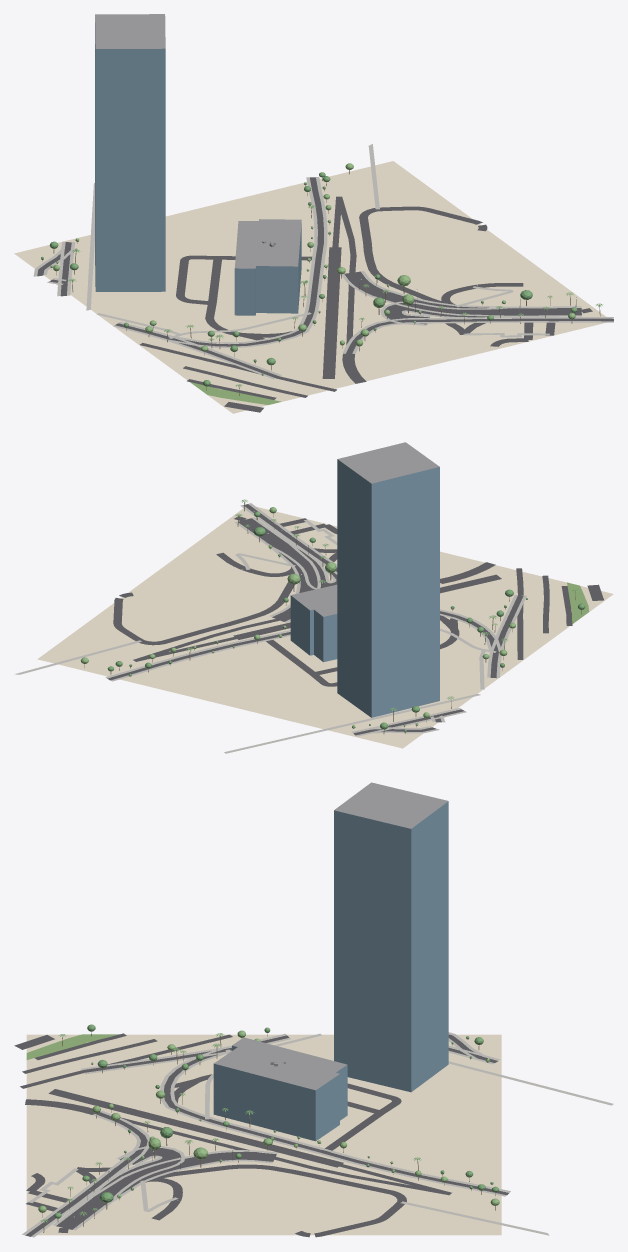
File: tile_-2_-3.glb
3 renders of one model, top to bottom at view 1: azimuth 30°, elevation 25°; view 2: azimuth 150°, elevation 25°; view 3: azimuth 270°, elevation 25°, orthographic. The views are drawn at different scales.
Visible parts, largest first — view 1: nature_ground, buildings_glass_blue, roads_asphalt, roads_sidewalk, buildings_roof, nature_foliage_b, nature_foliage_a, nature_grass; view 2: nature_ground, buildings_glass_blue, roads_asphalt, roads_sidewalk, buildings_roof, nature_foliage_a, nature_foliage_b, nature_grass; view 3: nature_ground, buildings_glass_blue, roads_asphalt, roads_sidewalk, buildings_roof, nature_foliage_b, nature_foliage_a, nature_grass.
Part boxes in pixels (x1,y1,x2,y2): nature_ground: (14,161,605,413); buildings_glass_blue: (95,23,301,315); roads_asphalt: (37,177,613,412); roads_sidewalk: (33,144,613,379); buildings_roof: (95,14,301,268); nature_foliage_b: (50,163,575,351); nature_foliage_a: (41,172,577,386); nature_grass: (190,382,281,404); nature_ground: (37,505,613,748); buildings_glass_blue: (290,459,439,717); roads_asphalt: (107,504,603,735); roads_sidewalk: (14,503,526,753); buildings_roof: (291,442,439,616); nature_foliage_a: (107,511,585,732); nature_foliage_b: (80,507,515,728); nature_grass: (567,582,589,623); nature_ground: (26,1034,501,1235); buildings_glass_blue: (213,801,448,1141); roads_asphalt: (14,1033,508,1237); roads_sidewalk: (22,1032,613,1237); buildings_roof: (214,782,448,1090); nature_foliage_b: (38,1030,499,1212); nature_foliage_a: (54,1024,498,1218); nature_grass: (26,1034,118,1059).
Bounding box in the file's own units: 261 × 153 × 316.
